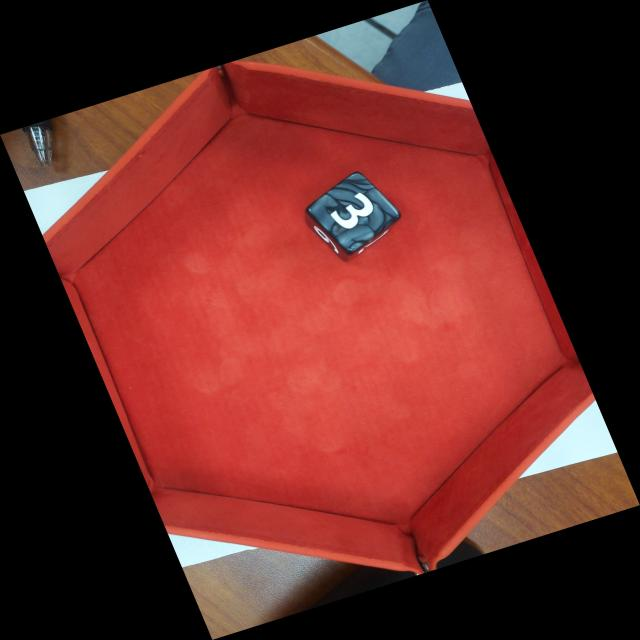dice: (307, 173, 401, 255)
